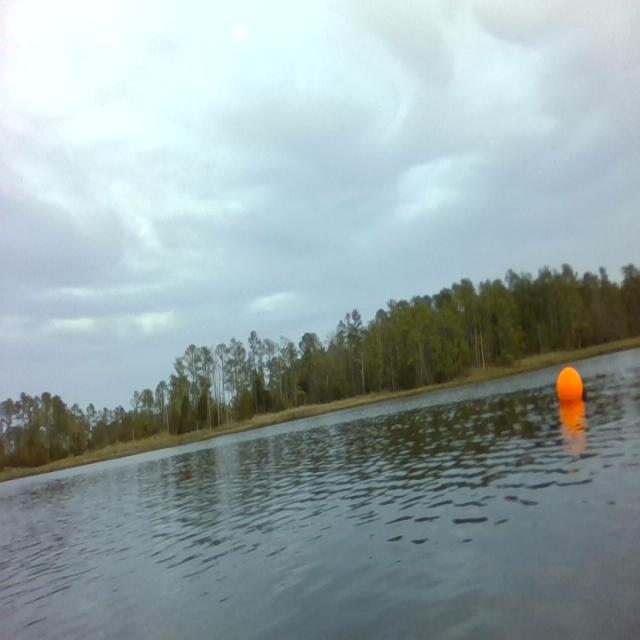Buoy: (555, 363, 587, 409)
